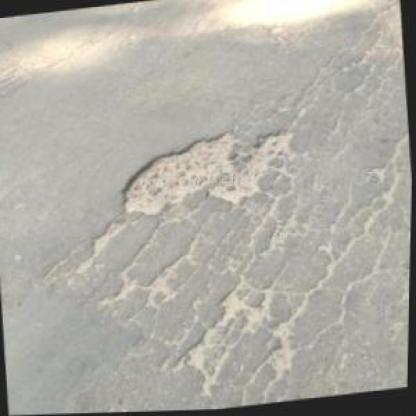pothole: (114, 123, 301, 222)
